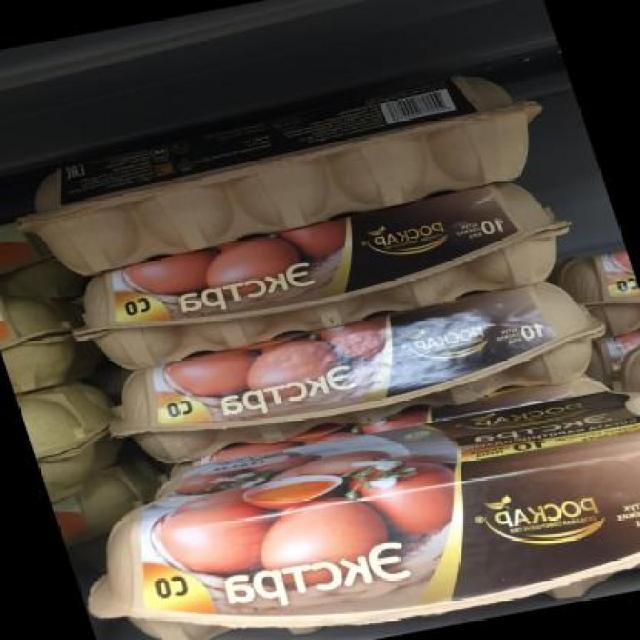egg: (46, 375, 640, 640), (49, 172, 596, 376), (81, 277, 630, 478), (14, 374, 140, 497), (0, 280, 91, 397), (548, 243, 640, 346)
